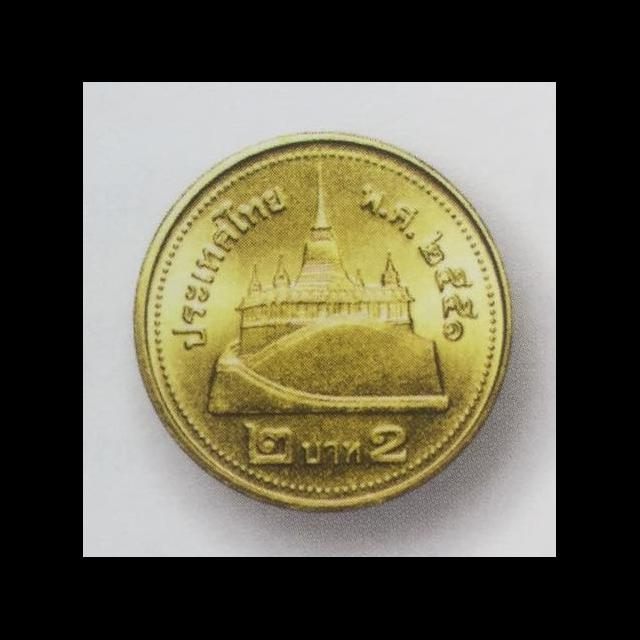2-baht: (115, 121, 530, 536)
